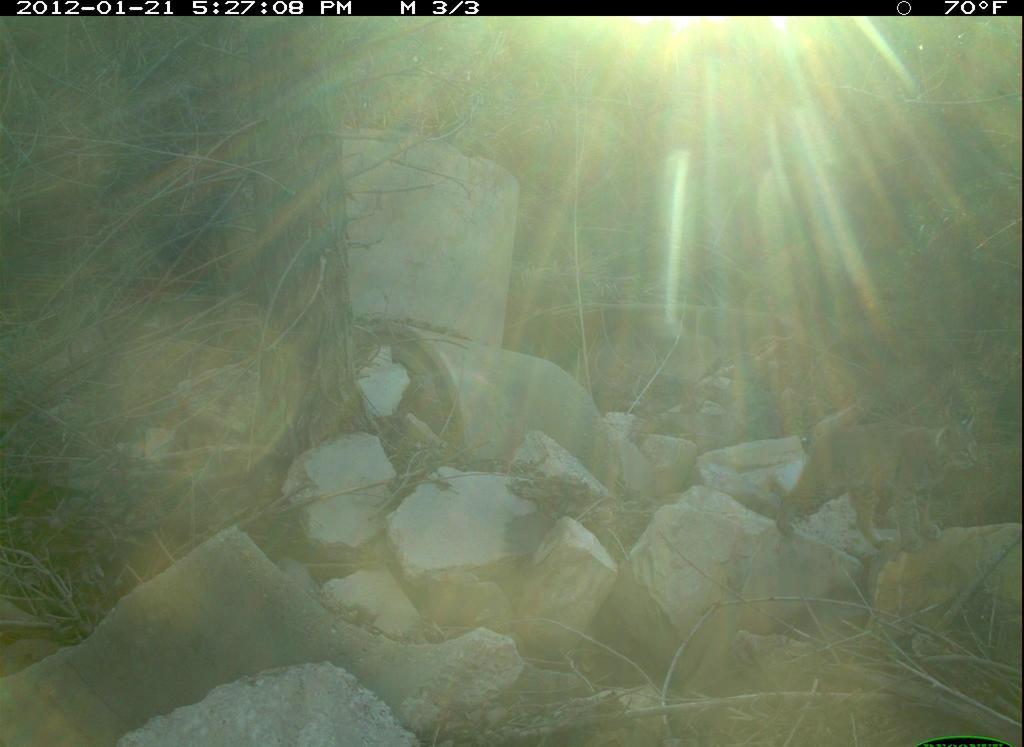bobcat: (769, 393, 987, 556)
